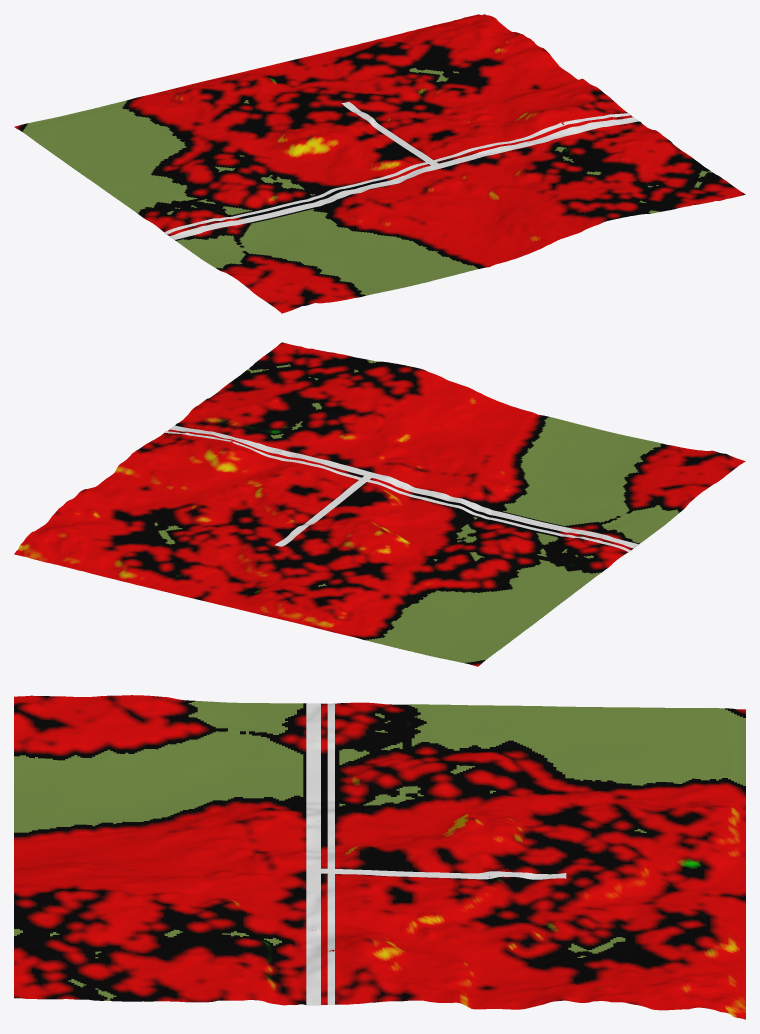
The model's file is terrain.glb.
3 views of the same model, one above another, from view 1: azimuth 30°, elevation 25°; view 2: azimuth 150°, elevation 25°; view 3: azimuth 270°, elevation 25° (orthographic). The views are drawn at different scales.
Parts seen in each view (by area): view 1: Maasto, Pelto, Linnunrata - ajorata, Linnunrata - pyörätie, Varstakatu; view 2: Maasto, Pelto, Linnunrata - ajorata, Linnunrata - pyörätie, Varstakatu; view 3: Maasto, Pelto, Linnunrata - ajorata, Linnunrata - pyörätie, Varstakatu.
Boxes of the visible parts, x1,y1,x2,y2 form: Maasto: (14,14,745,313); Pelto: (22,68,712,295); Linnunrata - ajorata: (170,117,639,239); Linnunrata - pyörätie: (164,113,631,234); Varstakatu: (341,101,438,165); Maasto: (14,342,745,666); Pelto: (154,359,679,663); Linnunrata - ajorata: (169,425,638,548); Linnunrata - pyörätie: (164,431,630,551); Varstakatu: (275,476,371,546); Maasto: (14,695,745,1019); Pelto: (14,700,745,1000); Linnunrata - ajorata: (306,703,320,1005); Linnunrata - pyörätie: (327,703,334,1004); Varstakatu: (321,868,566,879).
Size of the model in its own units: 365 by 18.04 by 364.
